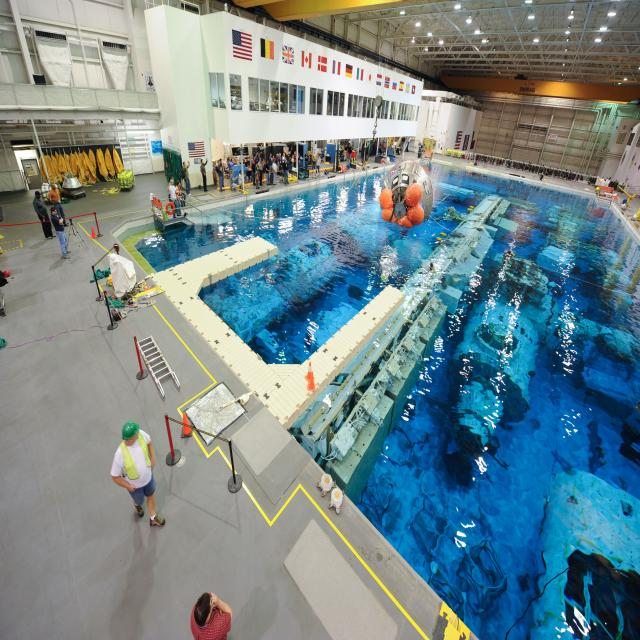Orange_colored_life-ring: (165, 201, 176, 217)
Orion_capsule_mockup_(WEST)_located_on_far_end_of_pool: (378, 160, 434, 230)
